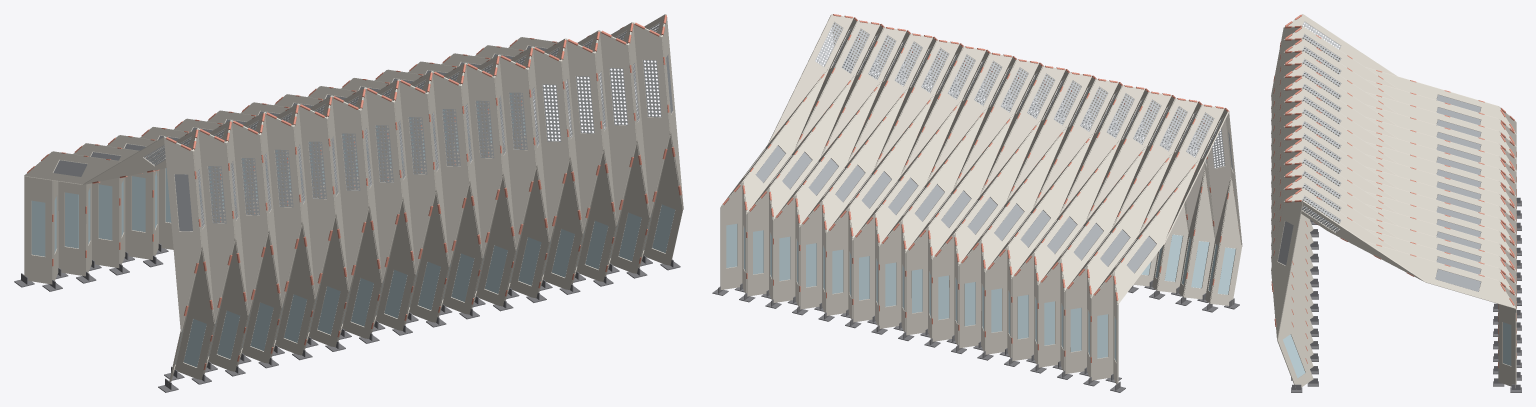
The model's file is pavilion.glb.
The picture shows the model from 3 angles, left to right: view 1: azimuth 30°, elevation 25°; view 2: azimuth 150°, elevation 25°; view 3: azimuth 270°, elevation 25°; orthographic projection. The views are drawn at different scales.
Visible parts, largest first — view 1: 판, 창-열림, 창-타공, 힌지, 받침 슈, 창-막힘; view 2: 판, 창-열림, 창-타공, 창-막힘, 힌지, 받침 슈; view 3: 판, 창-막힘, 힌지, 창-타공, 받침 슈, 창-열림.
Boxes of the visible parts, bbox=[...] form: 판: bbox=[24, 14, 683, 383]; 창-열림: bbox=[31, 93, 674, 367]; 창-타공: bbox=[144, 23, 661, 228]; 힌지: bbox=[27, 15, 681, 369]; 받침 슈: bbox=[14, 243, 680, 392]; 창-막힘: bbox=[53, 46, 672, 231]; 판: bbox=[720, 14, 1242, 383]; 창-열림: bbox=[726, 224, 1235, 361]; 창-타공: bbox=[815, 22, 1225, 168]; 창-막힘: bbox=[746, 41, 1232, 273]; 힌지: bbox=[723, 14, 1238, 362]; 받침 슈: bbox=[712, 280, 1239, 392]; 판: bbox=[1271, 14, 1516, 387]; 창-막힘: bbox=[1278, 95, 1480, 291]; 힌지: bbox=[1271, 14, 1516, 367]; 창-타공: bbox=[1302, 21, 1341, 232]; 받침 슈: bbox=[1291, 197, 1521, 392]; 창-열림: bbox=[1283, 322, 1511, 378].
Size of the model in its own units: 11.87 by 5.49 by 6.57.
